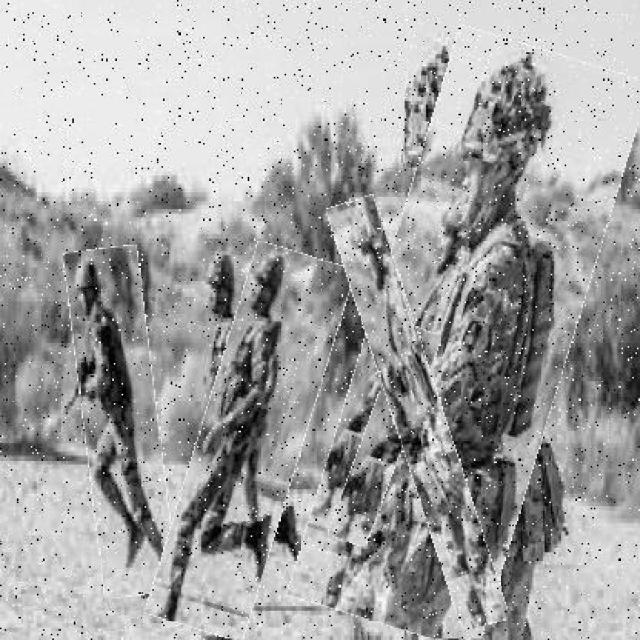Person: (329, 32, 610, 639), (174, 244, 331, 640), (362, 193, 478, 635), (75, 249, 170, 600), (349, 324, 426, 549)
